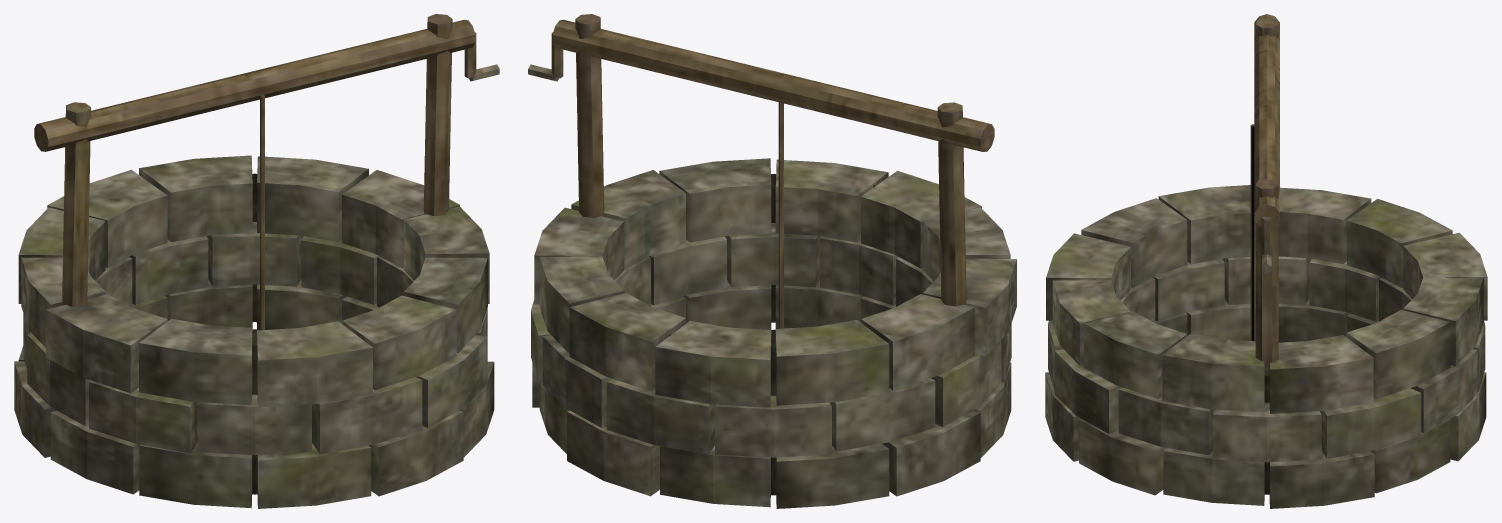
File: Village_Well.glb
3 renders of one model, left to right at view 1: azimuth 30°, elevation 25°; view 2: azimuth 150°, elevation 25°; view 3: azimuth 270°, elevation 25°, orthographic. The views are drawn at different scales.
Visible parts, largest first — view 1: Village_Well; view 2: Village_Well; view 3: Village_Well.
Part boxes in pixels (box(x1,y1,x2,y2)): Village_Well: box(14, 14, 499, 508); Village_Well: box(528, 14, 1016, 508); Village_Well: box(1045, 14, 1487, 508).
Size of the model in its own units: 2.22 by 1.6 by 2.04.
Materials: 1 (1 with a texture image).
